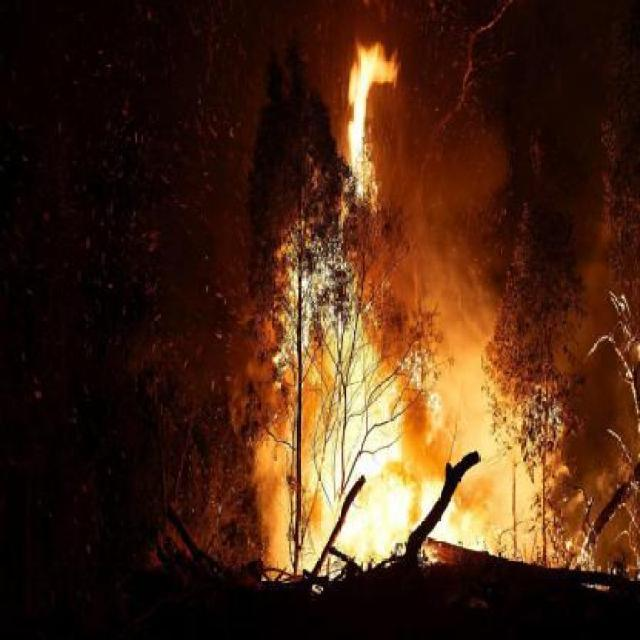Fire: (318, 314, 402, 575), (345, 45, 397, 192), (436, 504, 462, 546), (418, 478, 440, 506)
